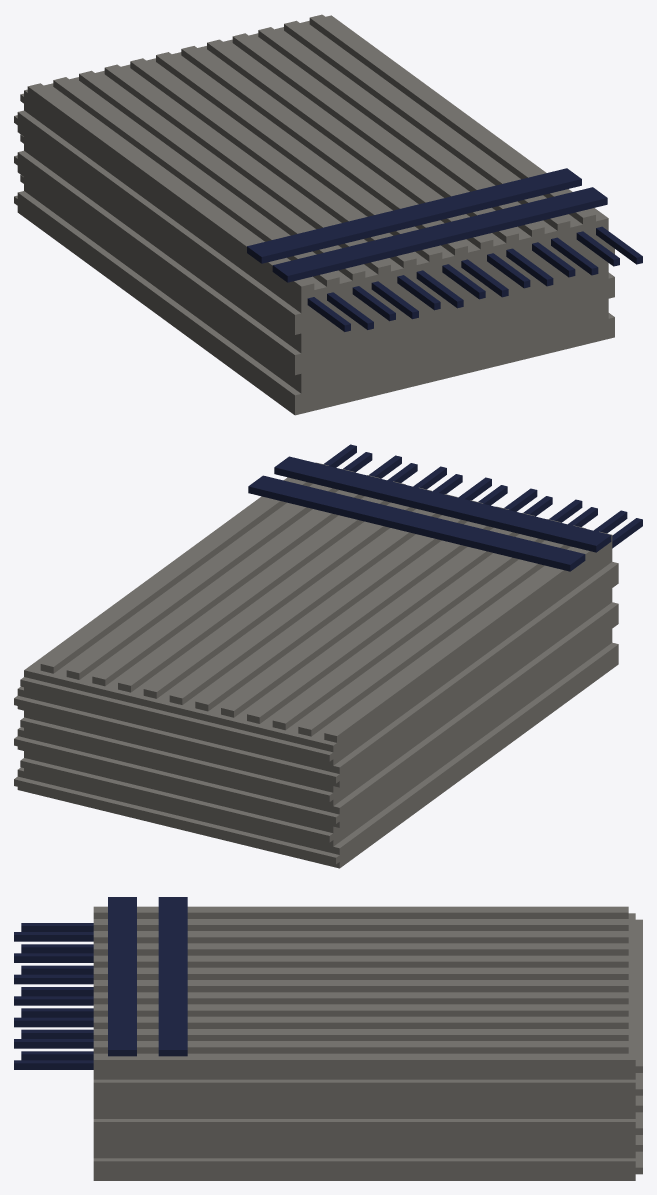
Rendered from long_knit_scarf.glb.
The picture shows the model from 3 angles, top to bottom: view 1: azimuth 30°, elevation 25°; view 2: azimuth 150°, elevation 25°; view 3: azimuth 270°, elevation 25°; orthographic projection. The views are drawn at different scales.
Visible parts, largest first — view 1: long_knit_scarf:compound; view 2: long_knit_scarf:compound; view 3: long_knit_scarf:compound.
Boxes of the visible parts, box(x1,y1,x2,y2) form: long_knit_scarf:compound: box(14, 14, 642, 415); long_knit_scarf:compound: box(14, 444, 642, 868); long_knit_scarf:compound: box(14, 897, 642, 1180).
Bounding box in the file's own units: 0.2 × 0.08 × 0.348.
